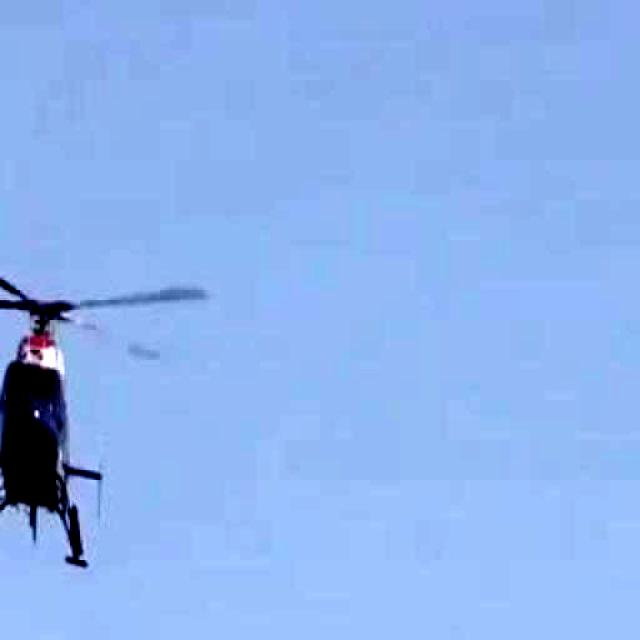drone: (0, 199, 215, 599)
